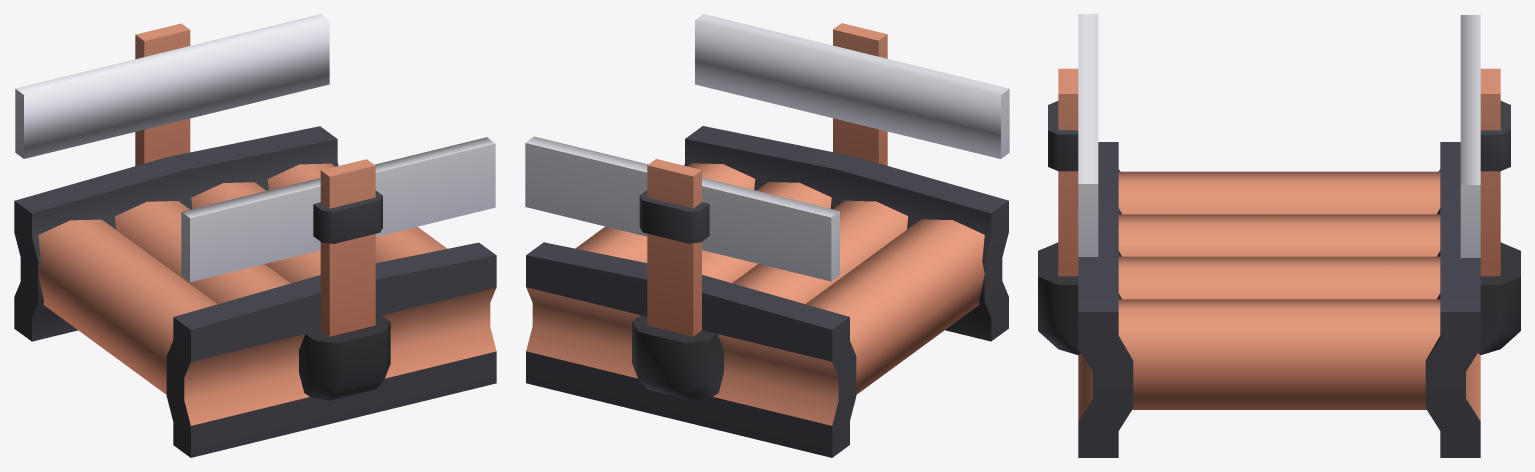
File: conveyor-bars-fence.obj
The picture shows the model from 3 angles, left to right: view 1: azimuth 30°, elevation 25°; view 2: azimuth 150°, elevation 25°; view 3: azimuth 270°, elevation 25°; orthographic projection. The views are drawn at different scales.
Visible parts, largest first — view 1: conveyor-bars-fence; view 2: conveyor-bars-fence; view 3: conveyor-bars-fence.
Boxes of the visible parts, <box> form: conveyor-bars-fence: <box>14,14,496,457</box>; conveyor-bars-fence: <box>525,14,1009,457</box>; conveyor-bars-fence: <box>1038,14,1520,457</box>.
Size of the model in its own units: 1.01 by 0.8 by 1.2.
